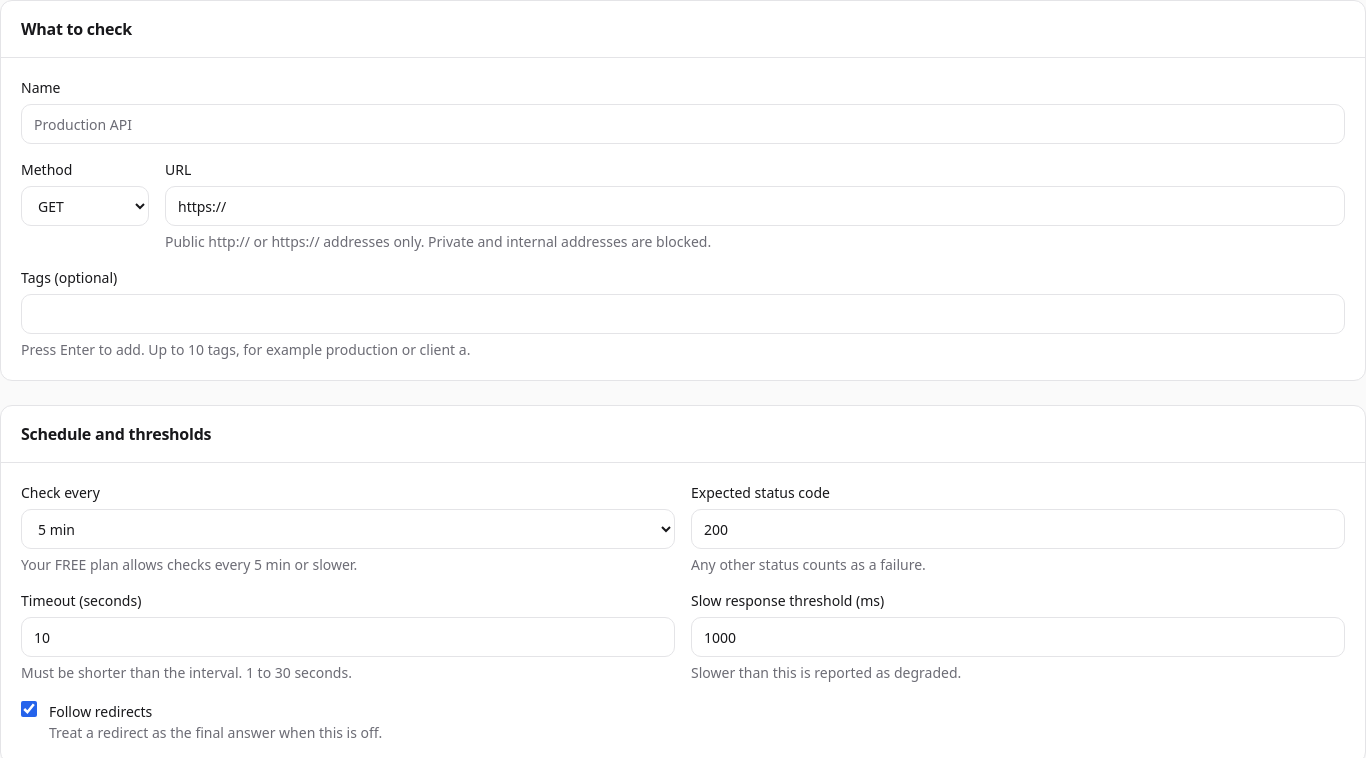
Test: MonitorForm tags › pressing Enter in the tags box adds a tag and does not save the monitor
In the field labelled "Name": (683, 124) [21, 104, 1345, 144], type "Tagged API"
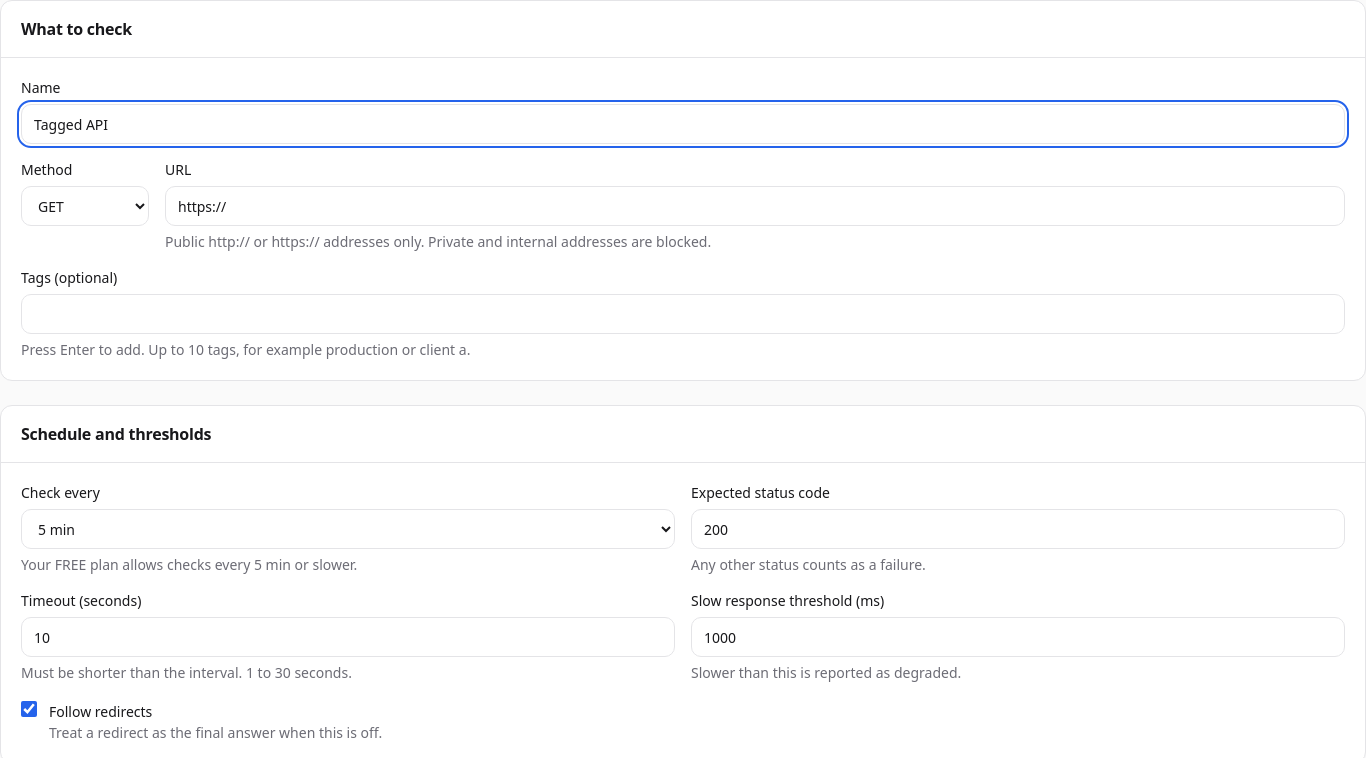
Replace the text in the field labelled "URL" with "https://api.example.com/health": (755, 206) [165, 186, 1345, 226]
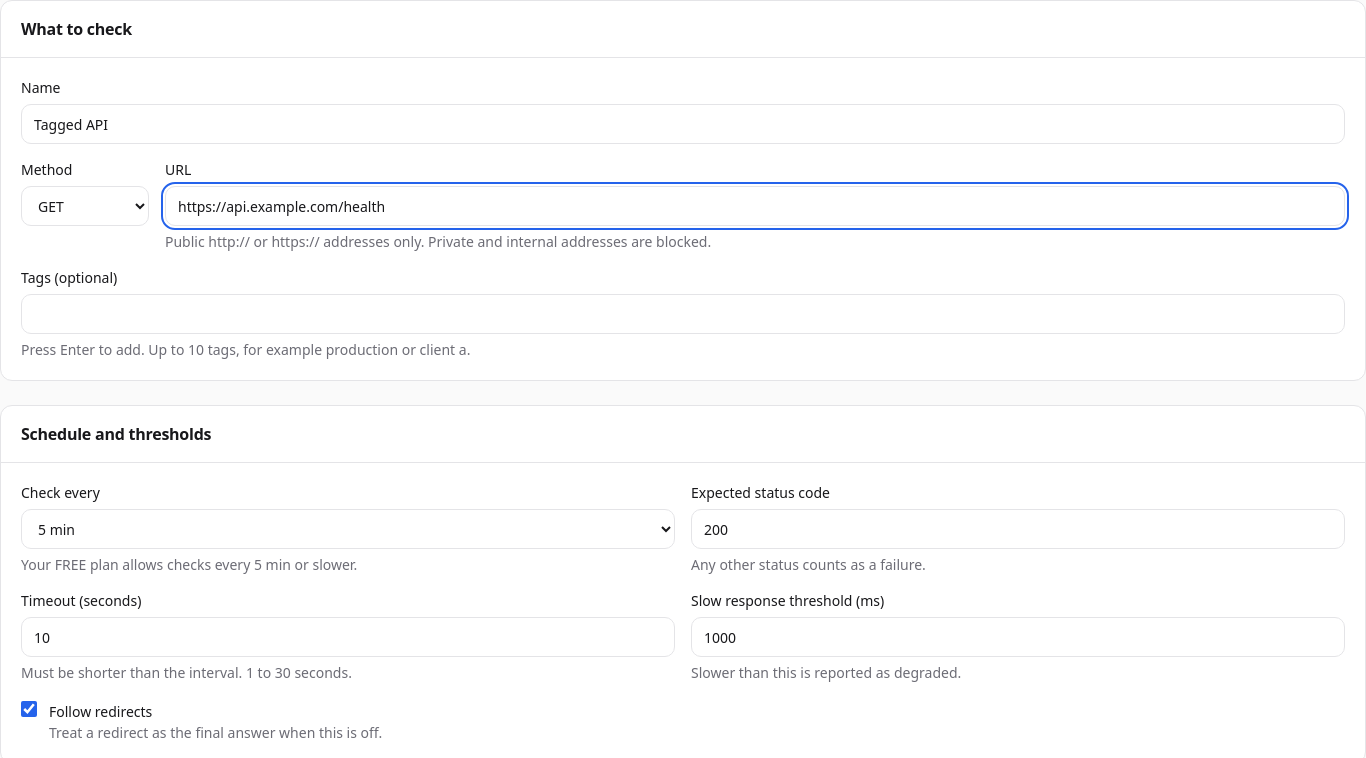
In the field labelled "Tags (optional)": (683, 314) [21, 294, 1345, 334], type "critical"
Then press Enter
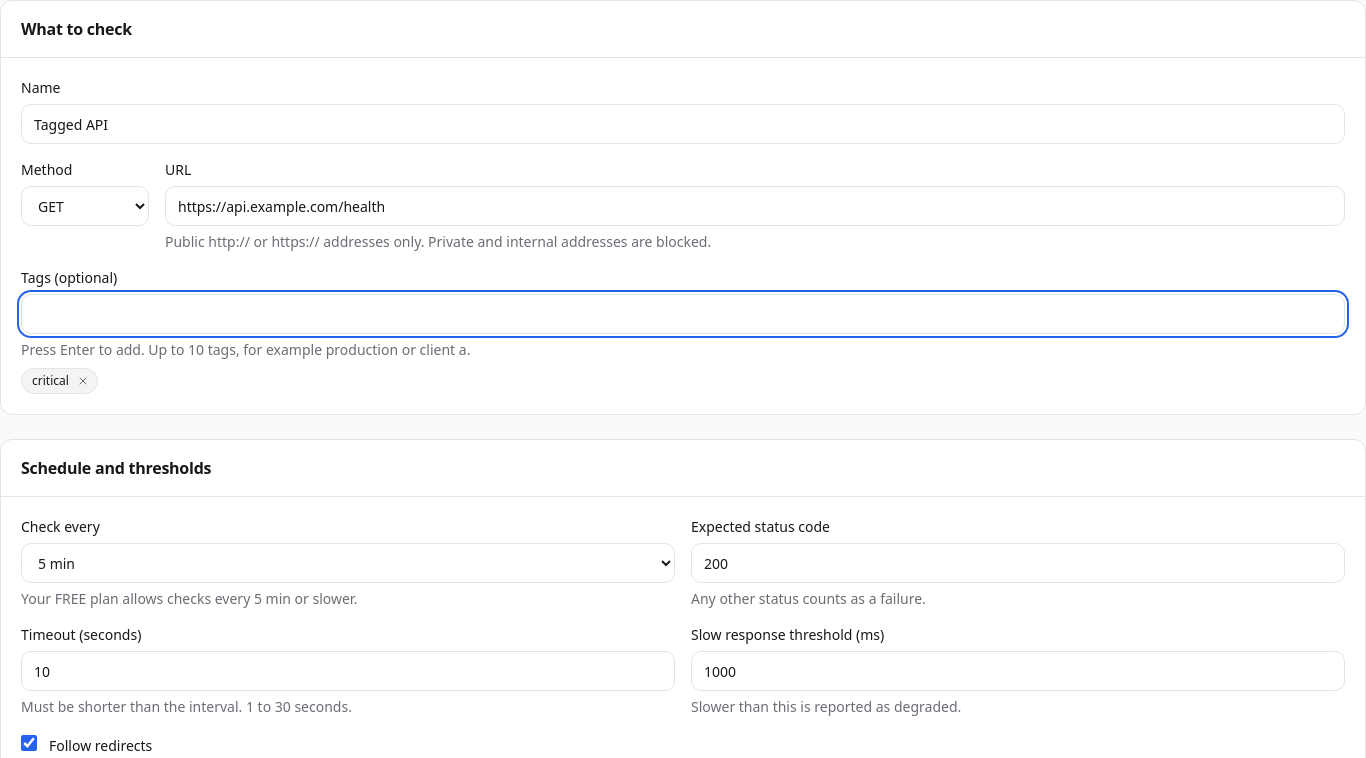
Expected: the list named "Tags on this monitor" reads "critical", [32, 372, 69, 389]
